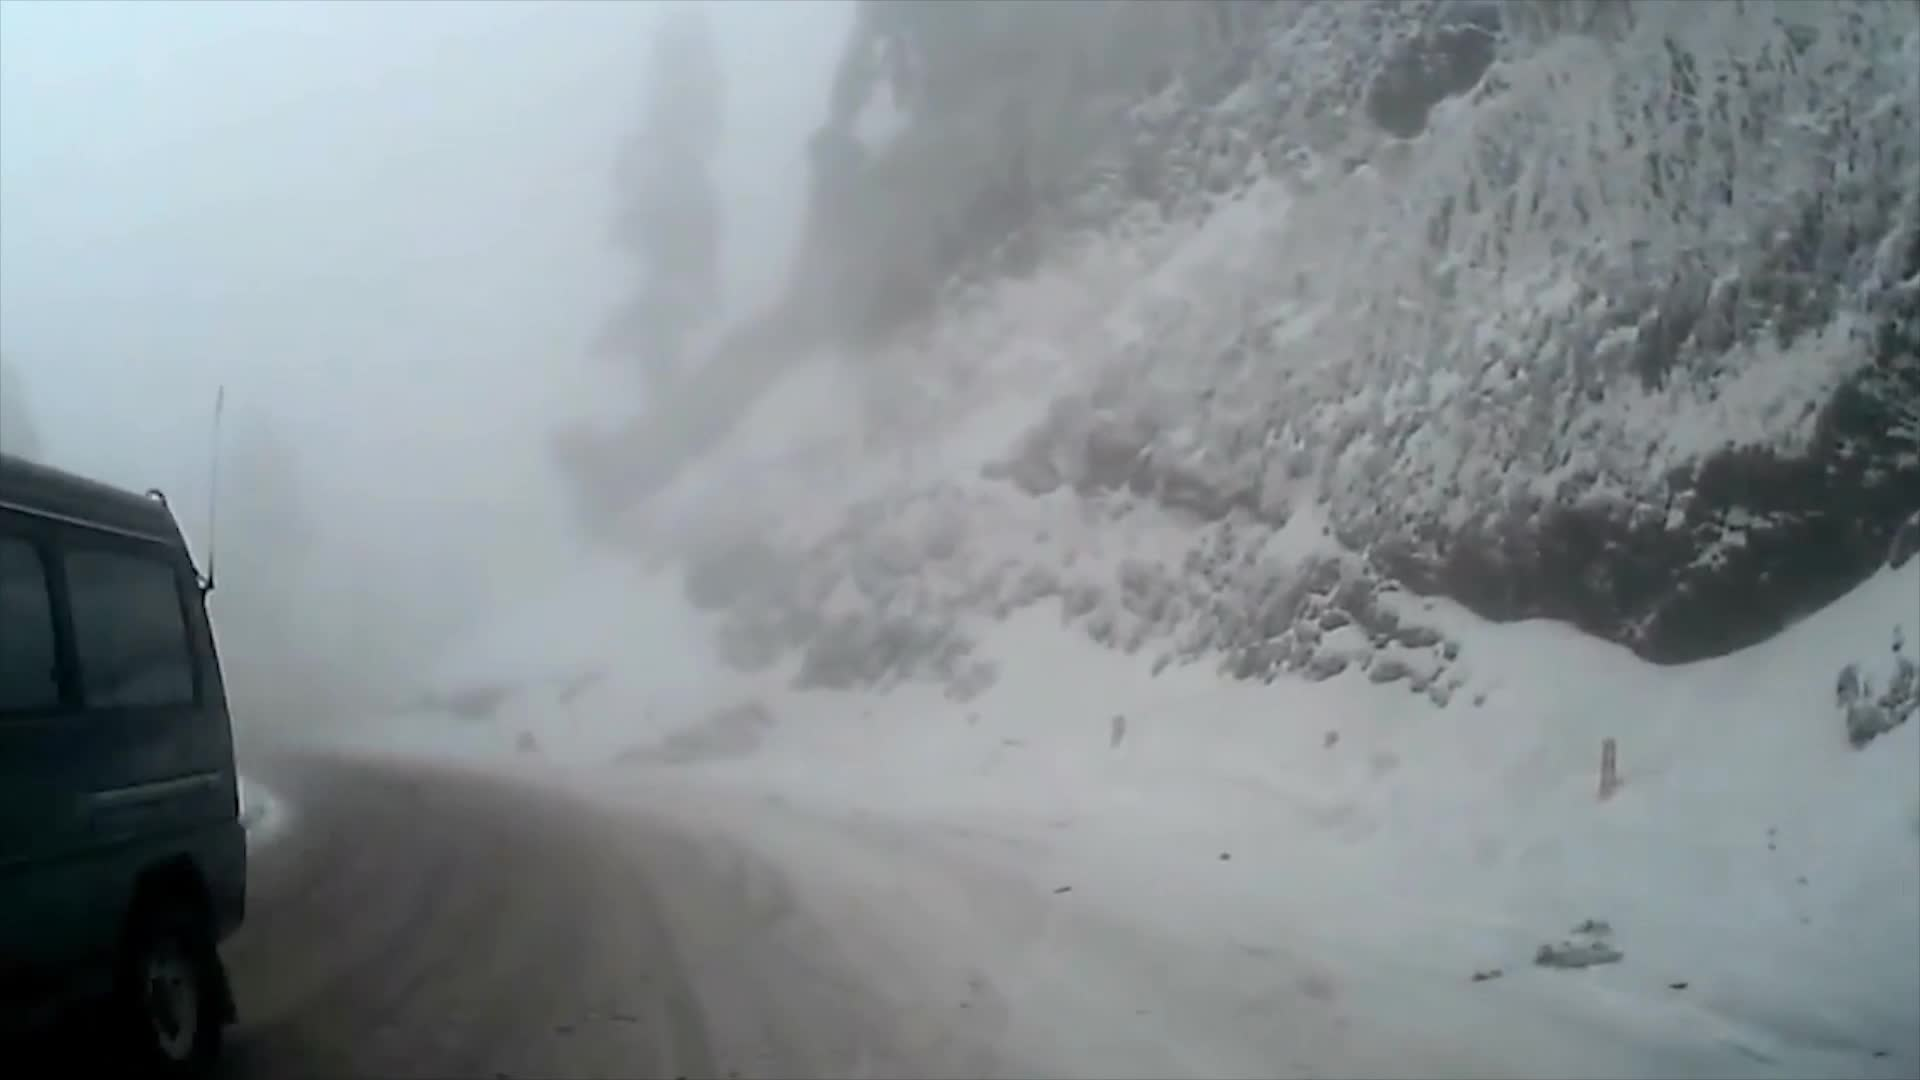vehicle: (0, 454, 245, 1080)
